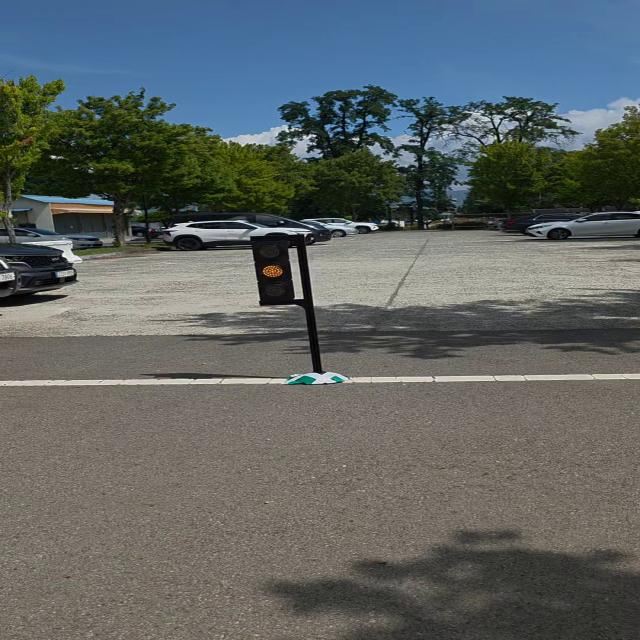yellow: (248, 234, 302, 308)
